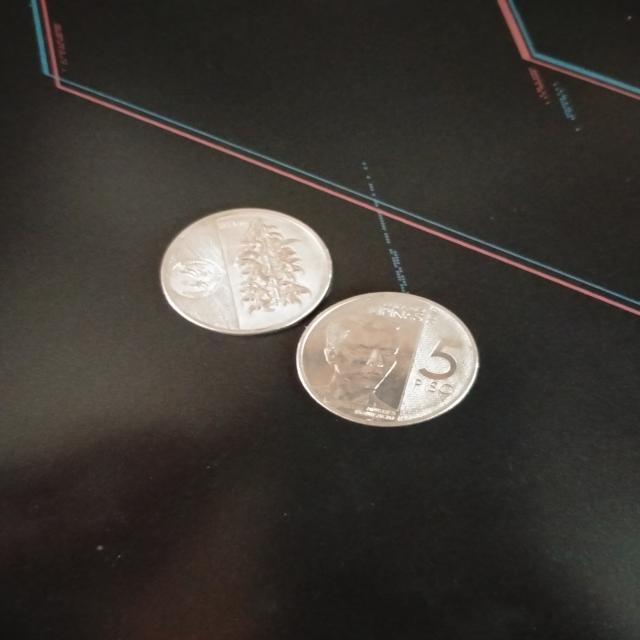5_New_Back: (228, 210, 326, 317)
5_New_Front: (402, 337, 473, 402)
